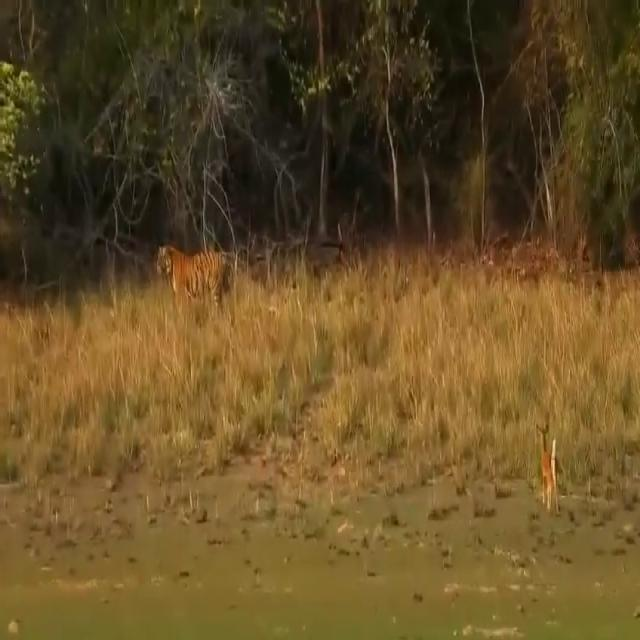tiger: (156, 244, 235, 323)
